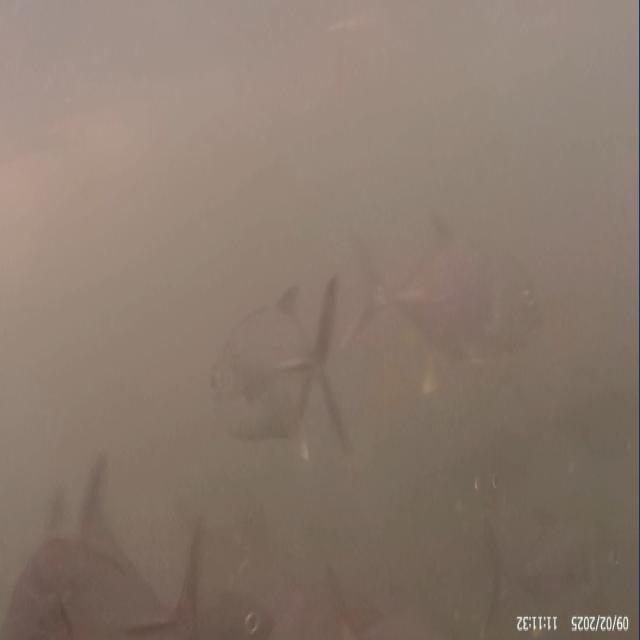ikan: (340, 218, 543, 395), (3, 449, 165, 636), (208, 272, 353, 461)
